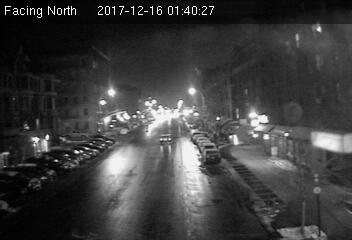car: (201, 148, 222, 165), (158, 132, 173, 144)
